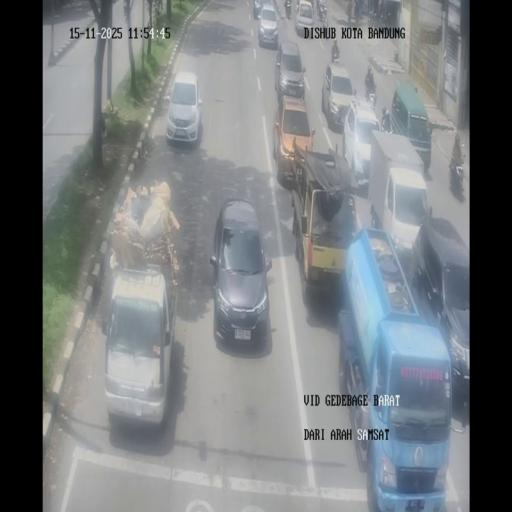3: (338, 232, 452, 505), (290, 141, 356, 305), (389, 80, 432, 172)
car: (102, 264, 176, 431), (209, 196, 272, 348), (273, 95, 314, 187), (342, 96, 382, 187), (165, 70, 203, 147), (322, 59, 354, 129), (274, 39, 306, 102), (258, 3, 279, 47), (294, 0, 315, 37), (253, 0, 262, 18)
truck: (448, 155, 464, 192), (365, 82, 377, 109), (381, 112, 392, 134), (378, 0, 386, 23), (284, 0, 292, 19), (354, 0, 360, 24), (320, 4, 327, 24), (332, 48, 340, 64), (316, 0, 321, 15), (295, 0, 299, 13)
